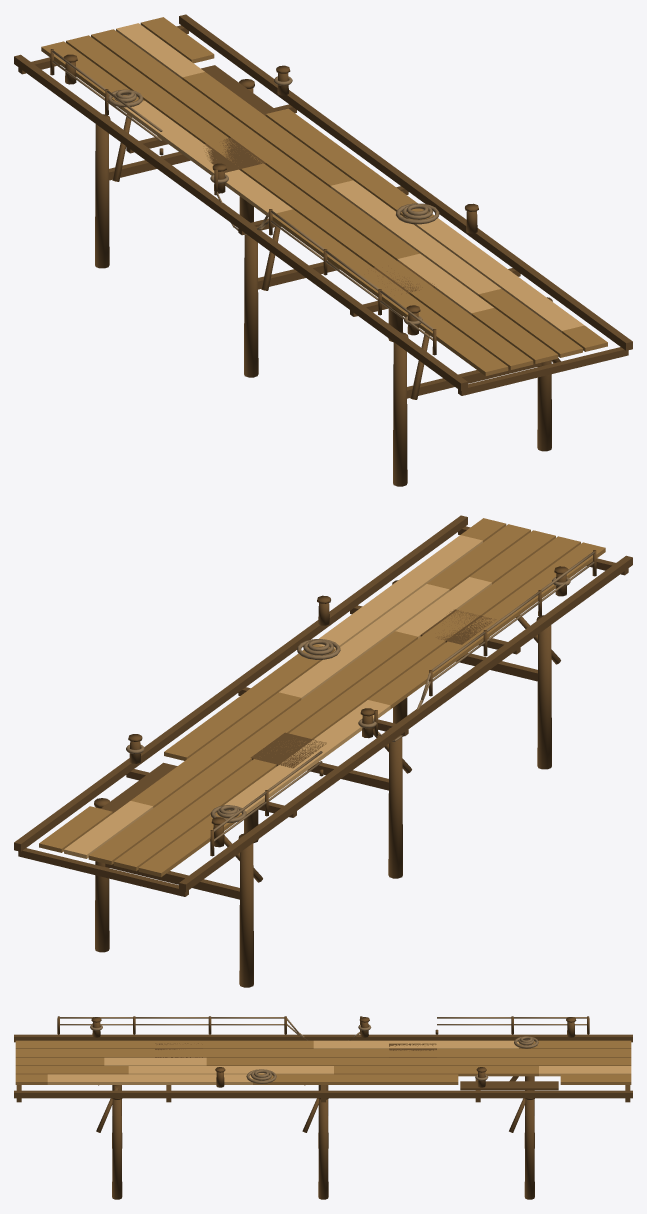
The model's file is PierLong.fbx.
The picture shows the model from 3 angles, top to bottom: view 1: azimuth 30°, elevation 25°; view 2: azimuth 150°, elevation 25°; view 3: azimuth 270°, elevation 25°; orthographic projection. The views are drawn at different scales.
Visible parts, largest first — view 1: PierLong; view 2: PierLong; view 3: PierLong.
Part boxes in pixels (left/top/right/bottom): PierLong: left=14, top=14, right=632, bottom=486; PierLong: left=14, top=515, right=632, bottom=987; PierLong: left=14, top=1016, right=632, bottom=1199.
Bounding box in the file's own units: 400 × 415 × 1800.
